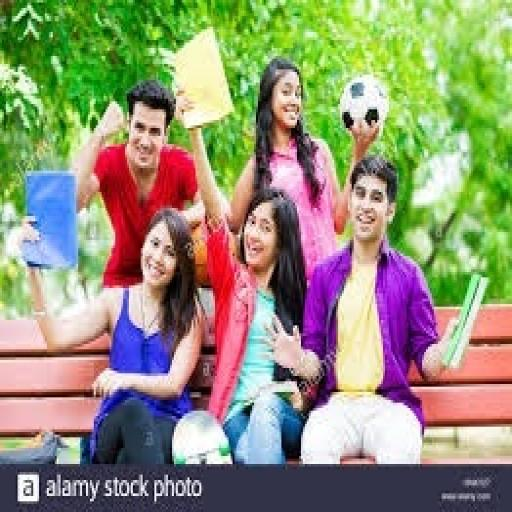sitting: (14, 53, 463, 464), (266, 152, 459, 464), (172, 80, 311, 464), (16, 205, 205, 464), (225, 53, 381, 283), (68, 78, 211, 294)
